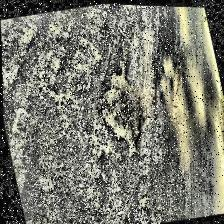pothole: (90, 66, 154, 162)
